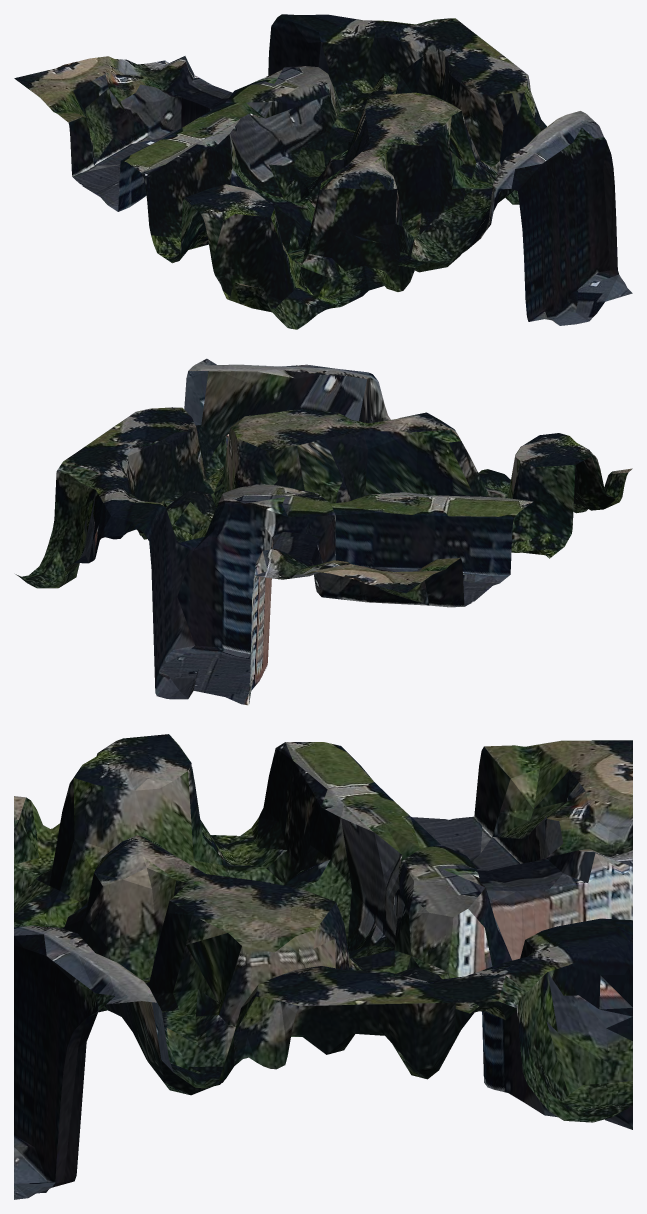
Rendered from map_15_8177_13789.dae.
The picture shows the model from 3 angles, top to bottom: view 1: azimuth 30°, elevation 25°; view 2: azimuth 150°, elevation 25°; view 3: azimuth 270°, elevation 25°; orthographic projection. The views are drawn at different scales.
Parts seen in each view (by area): view 1: Ter0; view 2: Ter0; view 3: Ter0.
Boxes of the visible parts, x1,y1,x2,y2 form: Ter0: [14, 14, 632, 329]; Ter0: [15, 358, 632, 705]; Ter0: [14, 734, 632, 1199].
Bounding box in the file's own units: 63.87 × 63.88 × 26.2.
4 materials, 4 textured.
